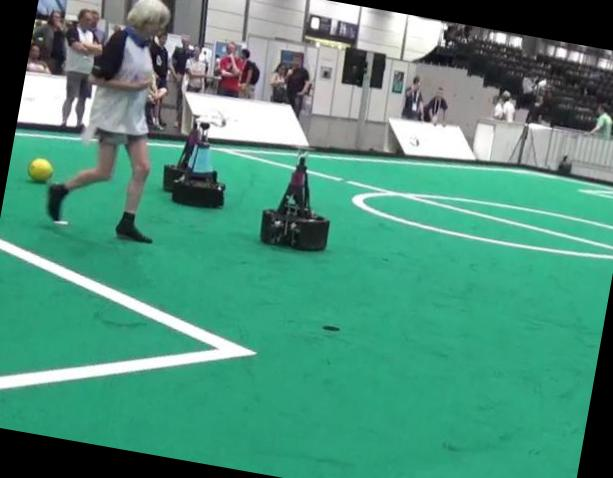ball: (26, 156, 52, 181)
person: (46, 0, 169, 242), (59, 8, 101, 130)
robot: (259, 155, 328, 249), (171, 121, 225, 208), (162, 121, 199, 191)
